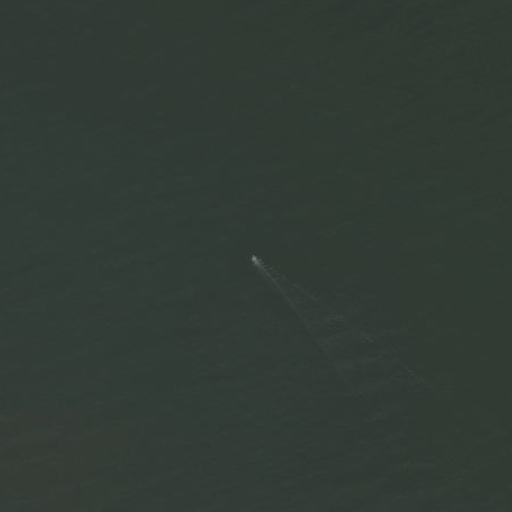ship: (249, 252, 260, 262)
